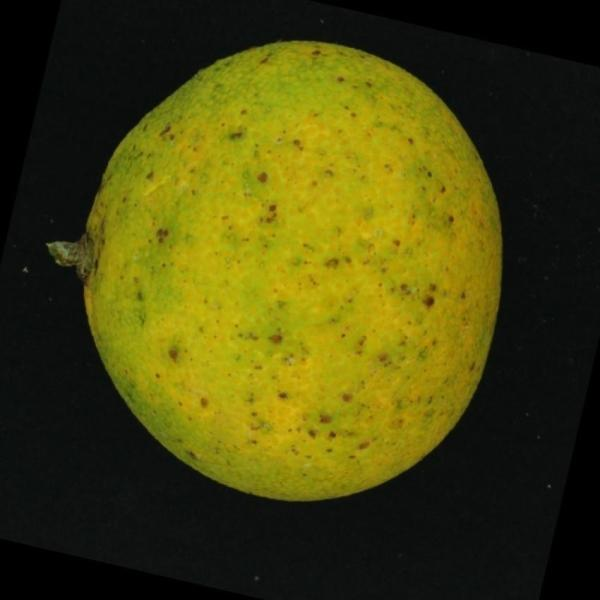Greening: (64, 28, 518, 508)
